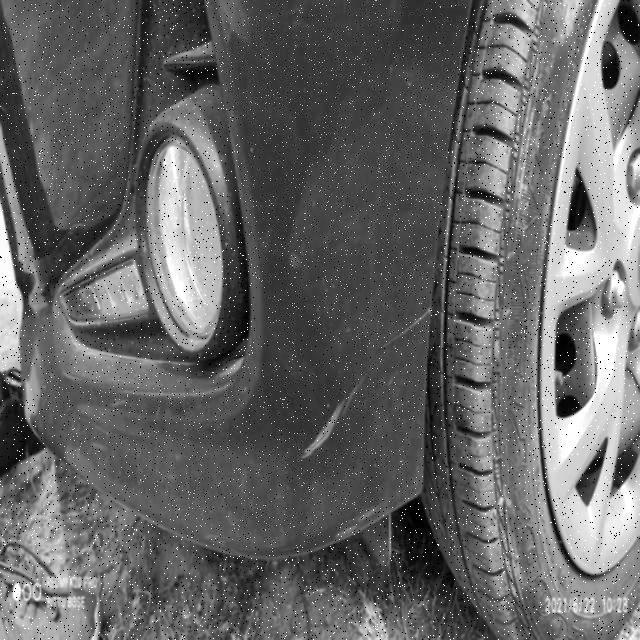front-bumper-dent: (119, 117, 445, 569)
